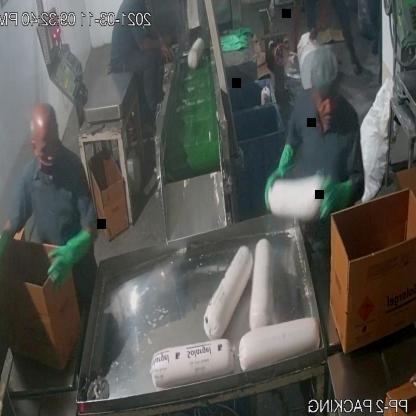glove: (44, 220, 89, 291), (313, 169, 355, 226), (264, 138, 293, 212), (0, 227, 10, 299)
no_glove: (304, 0, 334, 47), (283, 0, 301, 64), (134, 35, 172, 64)
